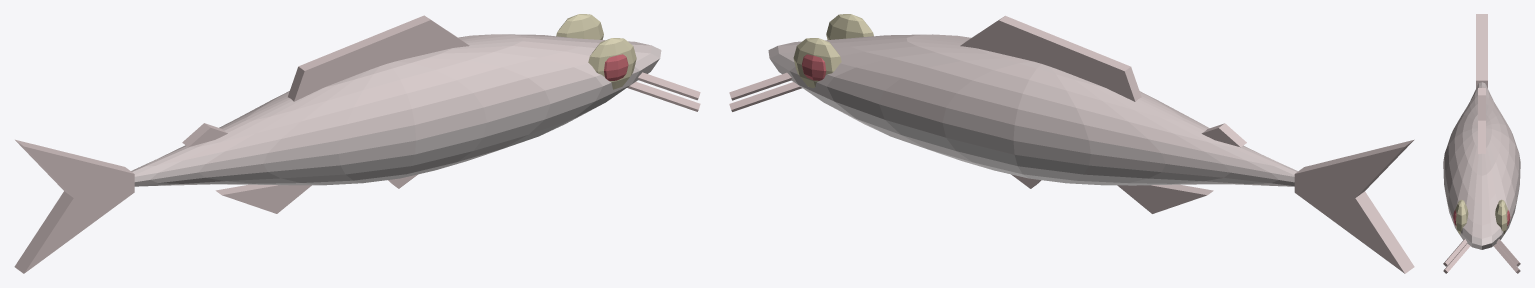
Rendered from AlbinoCatfish.glb.
The picture shows the model from 3 angles, left to right: view 1: azimuth 30°, elevation 25°; view 2: azimuth 150°, elevation 25°; view 3: azimuth 270°, elevation 25°; orthographic projection. The views are drawn at different scales.
Visible parts, largest first — view 1: AlbinoCatfish; view 2: AlbinoCatfish; view 3: AlbinoCatfish.
Part boxes in pixels (bbox=[...]): AlbinoCatfish: bbox=[14, 14, 700, 273]; AlbinoCatfish: bbox=[729, 14, 1414, 273]; AlbinoCatfish: bbox=[1443, 14, 1520, 273].
Bounding box in the file's own units: 7.37 × 1.74 × 1.24.
